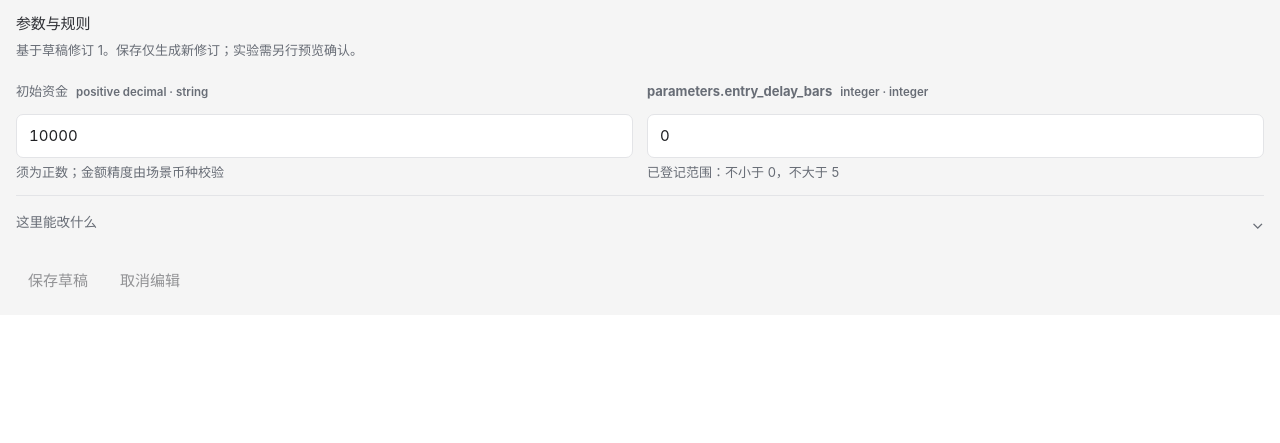
Scenario: restored storage lets the user explicitly save the preserved draft exactly once
Replace the text in the field labelled "初始资金 positive decimal · string" with "12000": (324,136) [16, 114, 633, 158]
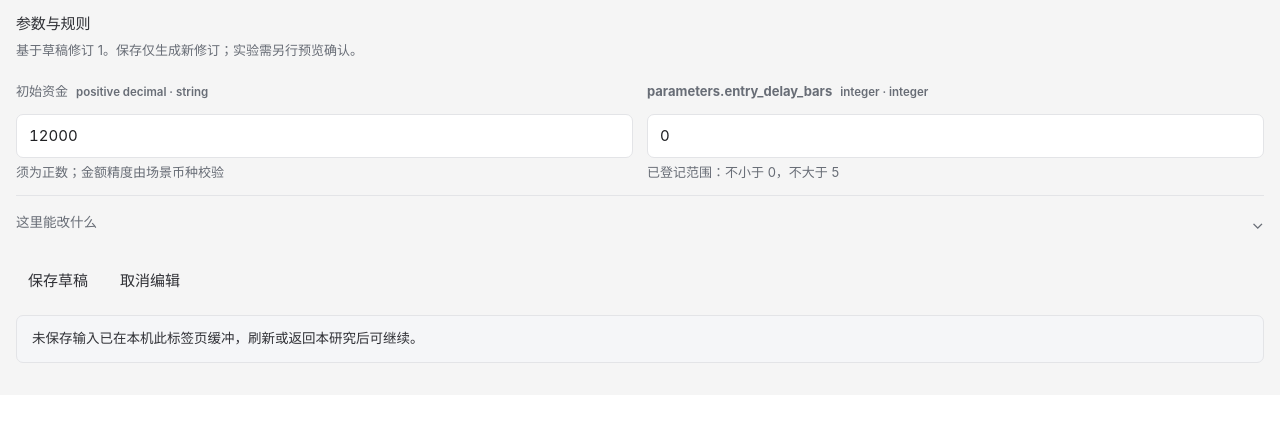
Click the button "保存草稿": (58,281) [16, 262, 100, 299]
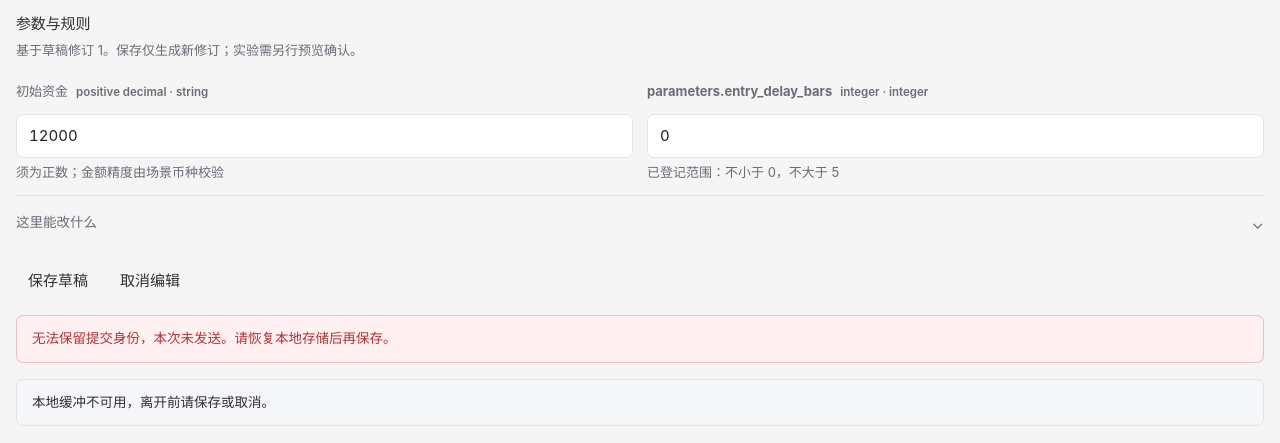
Expected: the text "无法保留提交身份，本次未发送。请恢复本地存储后再保存。" is shown, [16, 315, 1264, 363]
Click the button "保存草稿": (58,281) [16, 262, 100, 299]
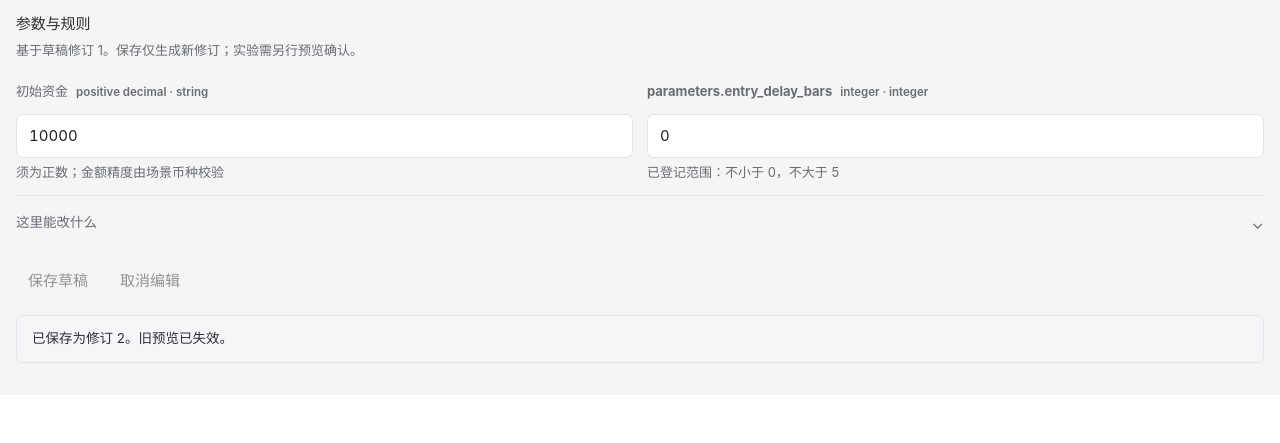
Expected: the text "已保存为修订 2。旧预览已失效。" is shown, [16, 315, 1264, 363]
